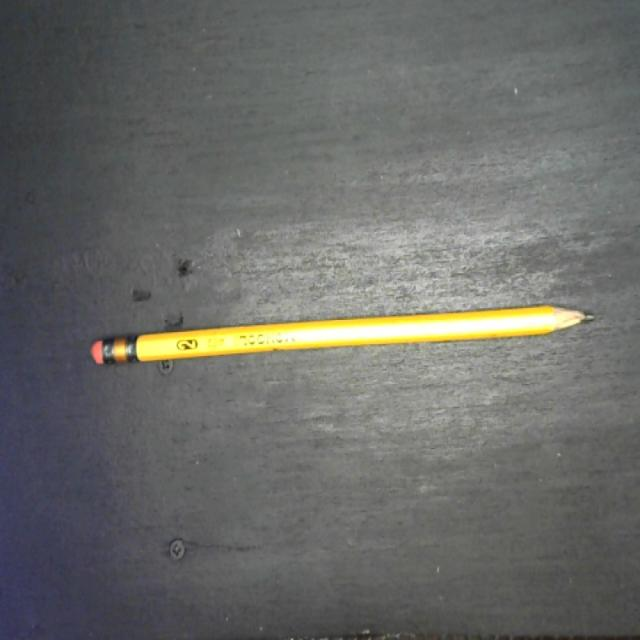biodegradable: (88, 300, 599, 370)
